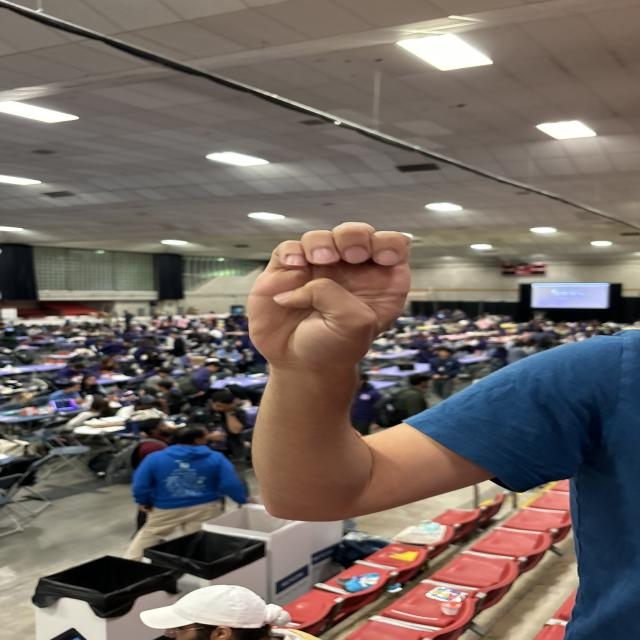E: (235, 216, 431, 357)
